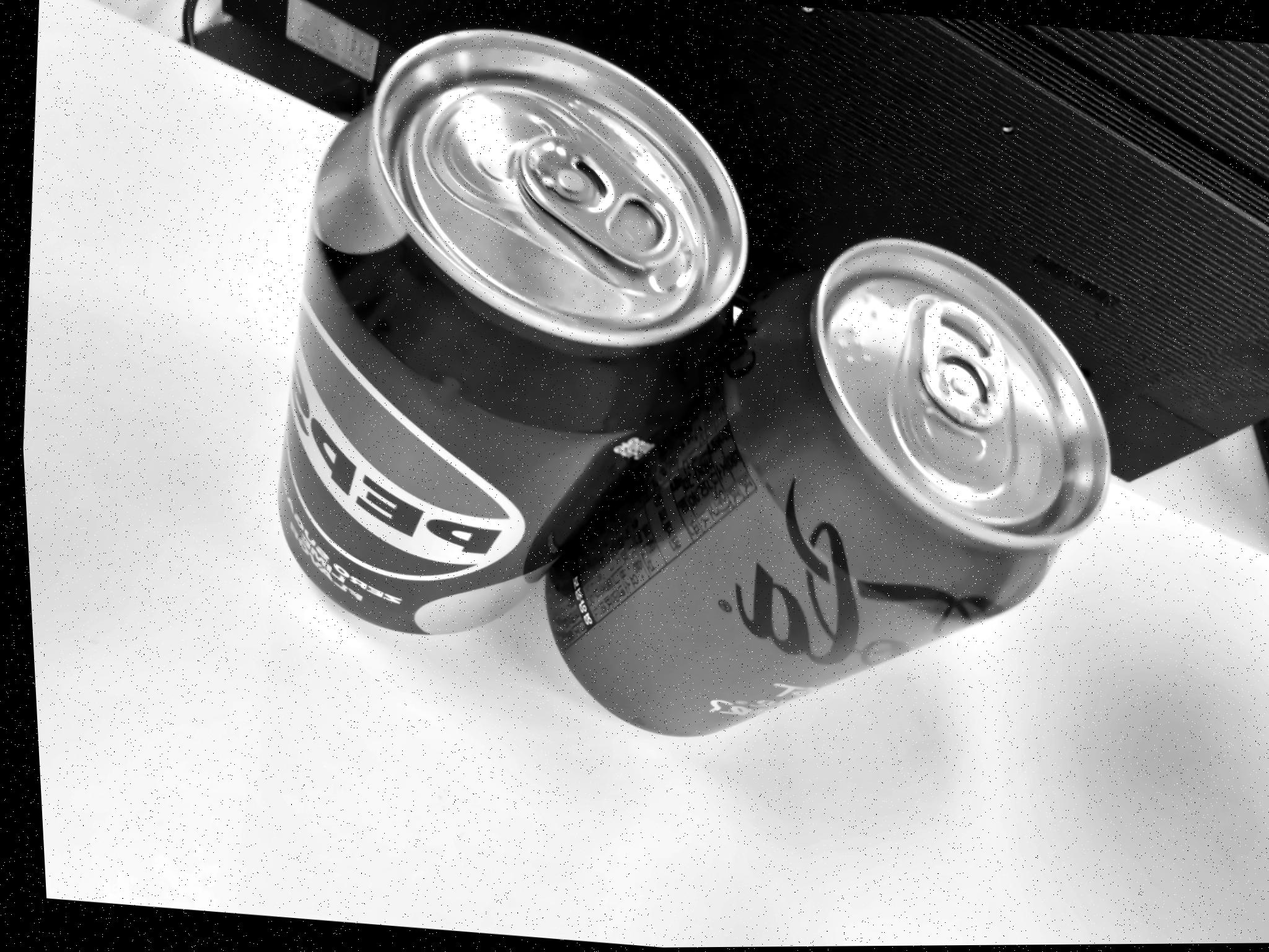can_coke_zero: (544, 234, 1108, 744)
can_pepsi_zero: (279, 36, 738, 636)
